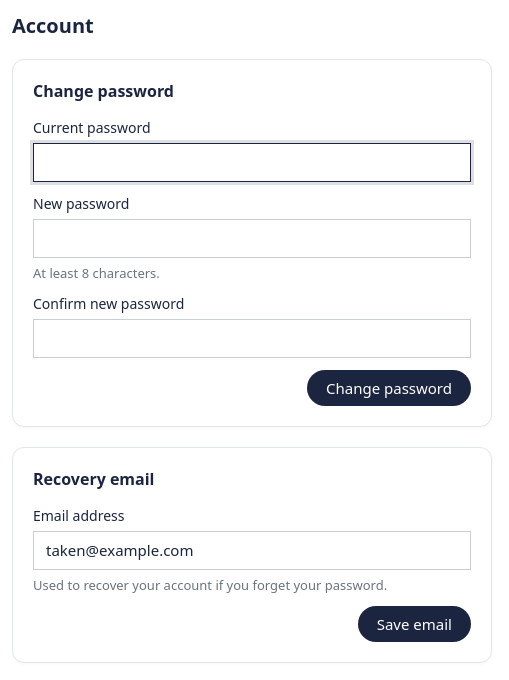
Test case: AccountPage — recovery email › renders the 409 "already in use" error inline on the email field
This screenshot has width=509, height=680.
Click the button "Save email" at (414, 624), box [358,606,471,642]
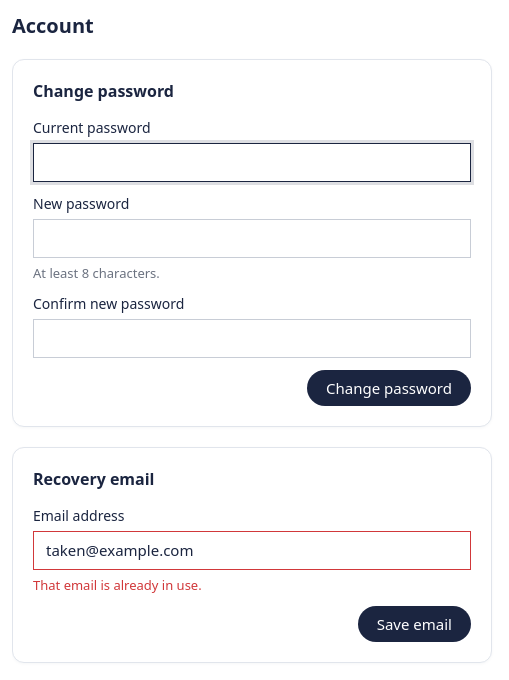
Expected: the text "That email is already in use." is shown, [33,576,202,594]
